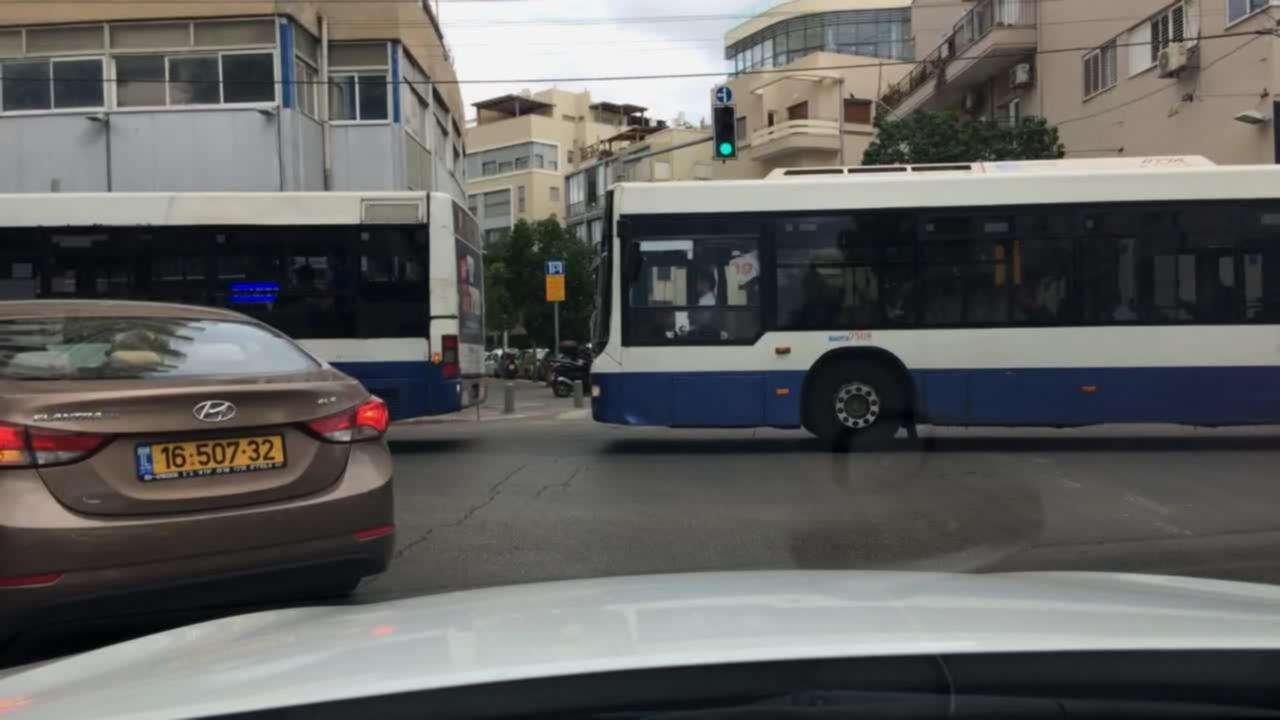Hyundai: (188, 396, 250, 428)
